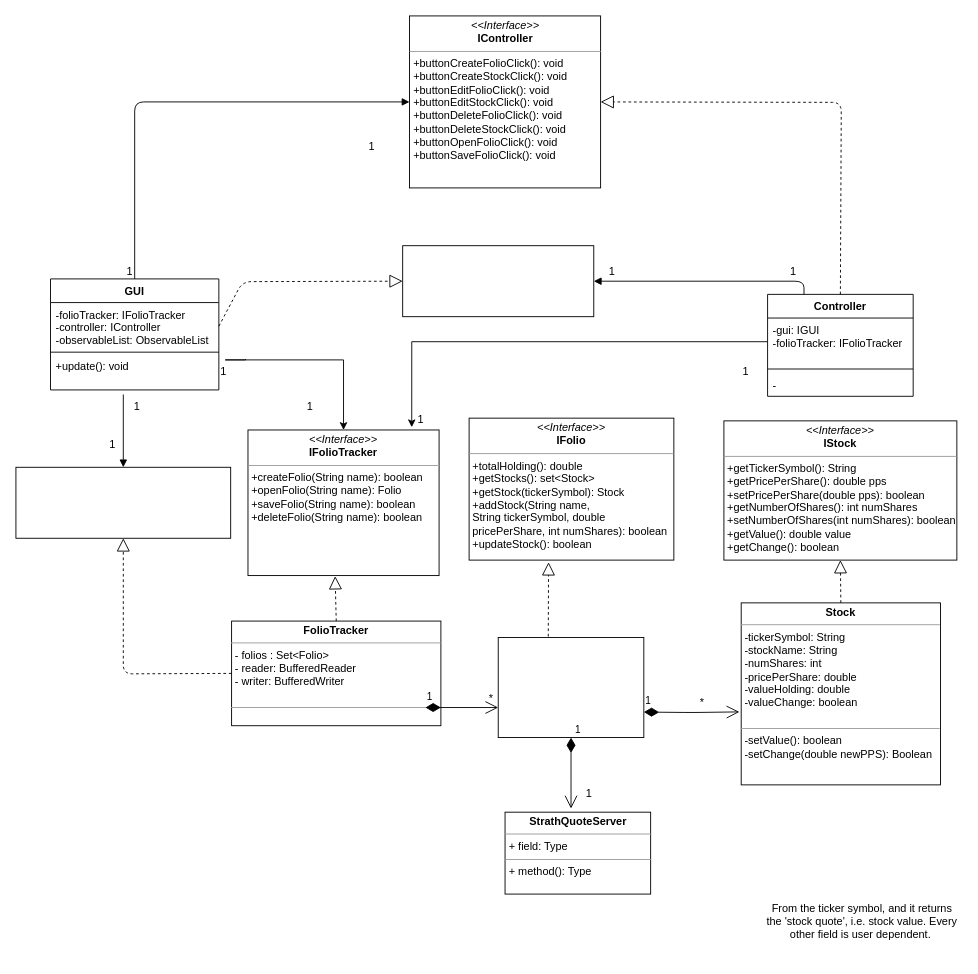
The diagram is 978 pixels wide and 974 high, and some of its shapes have lost their labels. The centre of each missing label's shape, as x and y in pixels:
<<Interface>> IGUI +update(): void: pixel 498 281
<<Interface>> ObservableList +getObserverableList(): List<IFolio>: pixel 123 502
Folio -stocks: Set<Stock> -name: String -server: StrathQuoteServer: pixel 570 687
